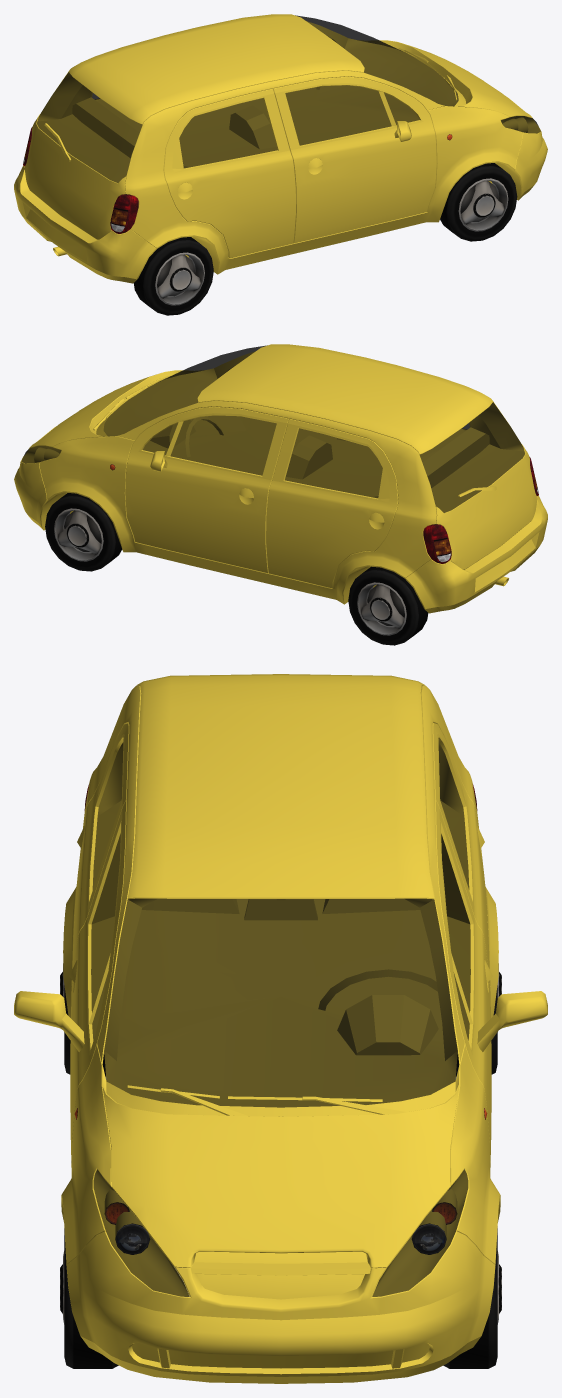
File: traffic_compact.glb
3 views of the same model, one above another, from view 1: azimuth 30°, elevation 25°; view 2: azimuth 150°, elevation 25°; view 3: azimuth 270°, elevation 25° (orthographic). The views are drawn at different scales.
Parts seen in each view (by area): view 1: compact_c_body, compact_c_glass, compact_c_wheel_2, compact_c_wheel_0, compact_c_optics; view 2: compact_c_body, compact_c_glass, compact_c_wheel_3, compact_c_wheel_1, compact_c_optics; view 3: compact_c_body, compact_c_glass, compact_c_optics, compact_c_wheel_0, compact_c_wheel_1.
Boxes of the visible parts, left/top/right/bottom form: compact_c_body: left=14, top=14, right=547, bottom=283; compact_c_glass: left=37, top=15, right=540, bottom=182; compact_c_wheel_2: left=133, top=237, right=213, bottom=315; compact_c_wheel_0: left=440, top=163, right=517, bottom=241; compact_c_optics: left=23, top=127, right=452, bottom=233; compact_c_body: left=14, top=344, right=547, bottom=613; compact_c_glass: left=21, top=345, right=524, bottom=512; compact_c_wheel_3: left=348, top=566, right=428, bottom=645; compact_c_wheel_1: left=45, top=493, right=122, bottom=571; compact_c_optics: left=110, top=457, right=538, bottom=563; compact_c_body: left=14, top=674, right=547, bottom=1383; compact_c_glass: left=91, top=743, right=470, bottom=1296; compact_c_optics: left=74, top=785, right=487, bottom=1254; compact_c_wheel_0: left=60, top=1228, right=118, bottom=1368; compact_c_wheel_1: left=443, top=1228, right=501, bottom=1368.
Bounding box in the file's own units: 3.26 × 1.32 × 1.61.
7 materials, 5 textured.
